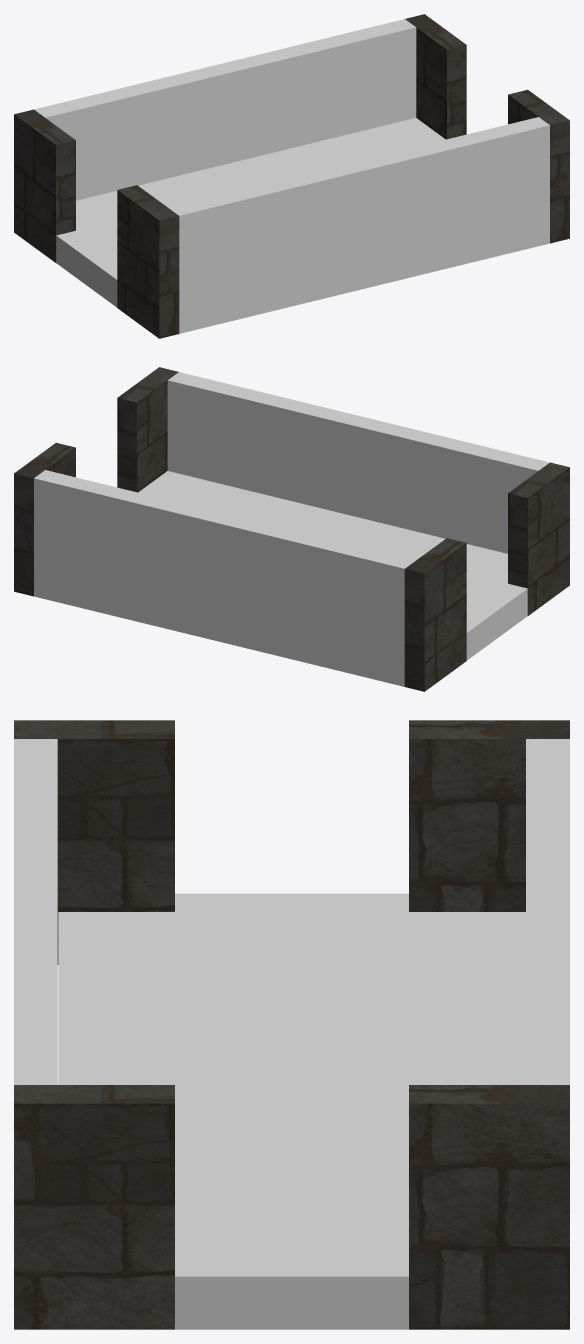
File: LongRoomStraight.fbx
The picture shows the model from 3 angles, top to bottom: view 1: azimuth 30°, elevation 25°; view 2: azimuth 150°, elevation 25°; view 3: azimuth 270°, elevation 25°; orthographic projection. The views are drawn at different scales.
Visible parts, largest first — view 1: Wall.021, Wall.022, Wall.020, LongRoomStraight, Wall.023; view 2: Wall.022, Wall.021, Wall.020, LongRoomStraight, Wall.023; view 3: LongRoomStraight, Wall.023, Wall.020, Wall.021, Wall.022.
Boxes of the visible parts, x1,y1,x2,y2 form: Wall.021: [168, 117, 549, 333]; Wall.022: [34, 19, 416, 200]; Wall.020: [14, 109, 179, 338]; LongRoomStraight: [56, 118, 445, 307]; Wall.023: [405, 14, 569, 243]; Wall.022: [34, 470, 415, 686]; Wall.021: [167, 372, 549, 553]; Wall.020: [404, 462, 569, 691]; LongRoomStraight: [138, 471, 527, 660]; Wall.023: [14, 367, 178, 596]; LongRoomStraight: [58, 893, 525, 1329]; Wall.023: [14, 1085, 569, 1329]; Wall.020: [14, 720, 569, 964]; Wall.021: [14, 739, 57, 1084]; Wall.022: [526, 739, 569, 1084].
Bounding box in the file's own units: 15.5 × 9.5 × 4.26.
